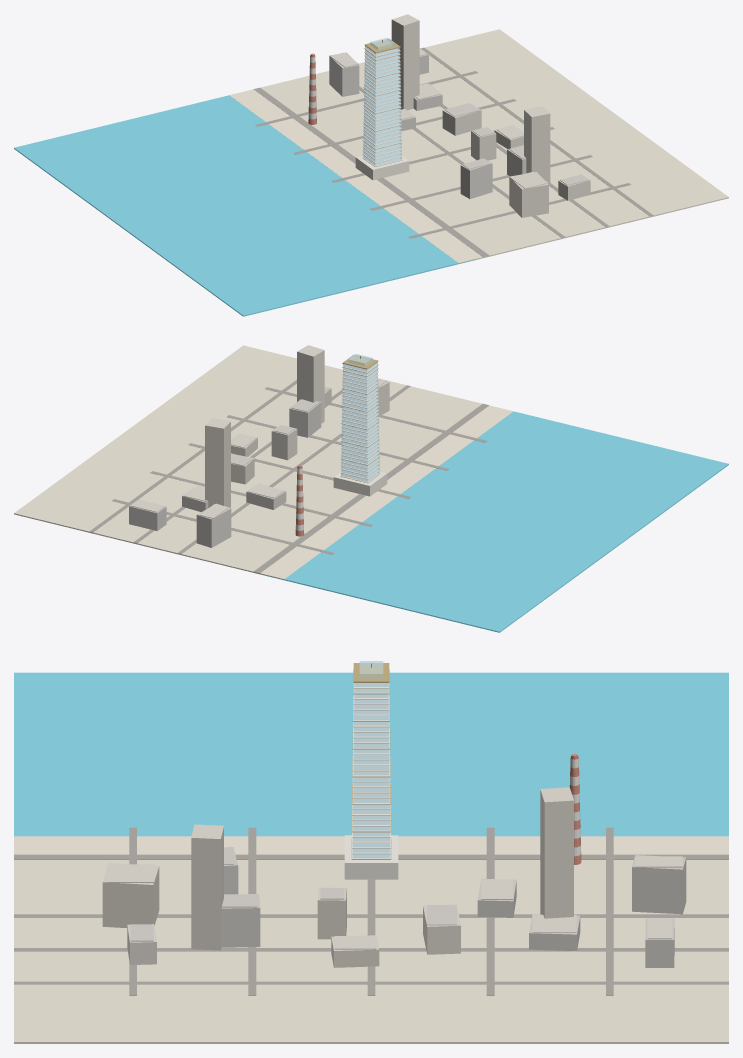
File: ashira.glb
The picture shows the model from 3 angles, top to bottom: view 1: azimuth 30°, elevation 25°; view 2: azimuth 150°, elevation 25°; view 3: azimuth 270°, elevation 25°; orthographic projection. The views are drawn at different scales.
Parts seen in each view (by area): view 1: scene; view 2: scene; view 3: scene.
Boxes of the visible parts, x1,y1,x2,y2 form: scene: (14, 14, 728, 316); scene: (14, 345, 728, 632); scene: (14, 661, 728, 1043).
Bounding box in the file's own units: 440 × 113 × 360.
